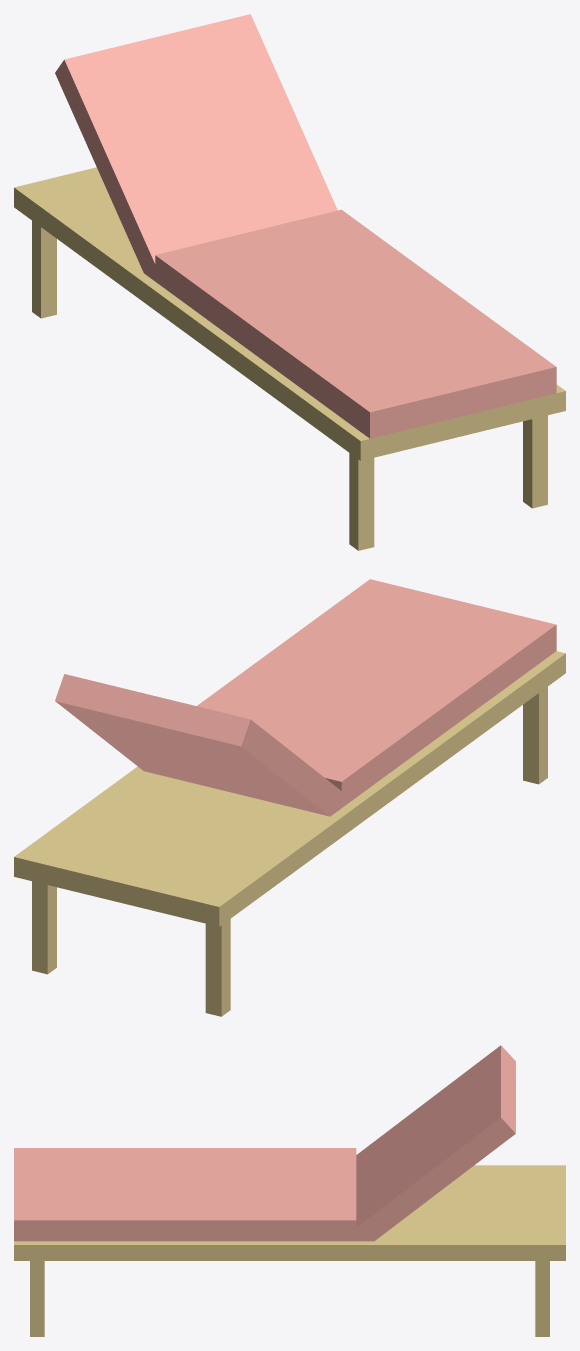
The model's file is bb_set_lounger.fbx.
3 views of the same model, one above another, from view 1: azimuth 30°, elevation 25°; view 2: azimuth 150°, elevation 25°; view 3: azimuth 270°, elevation 25° (orthographic). The views are drawn at different scales.
Parts seen in each view (by area): view 1: bb_set_lounger; view 2: bb_set_lounger; view 3: bb_set_lounger.
Boxes of the visible parts, x1=… form: bb_set_lounger: x1=14, y1=14, x2=565, y2=550; bb_set_lounger: x1=14, y1=579, x2=565, y2=1016; bb_set_lounger: x1=14, y1=1045, x2=565, y2=1336.
Bounding box in the file's own units: 0.65 × 0.8303 × 1.9.
